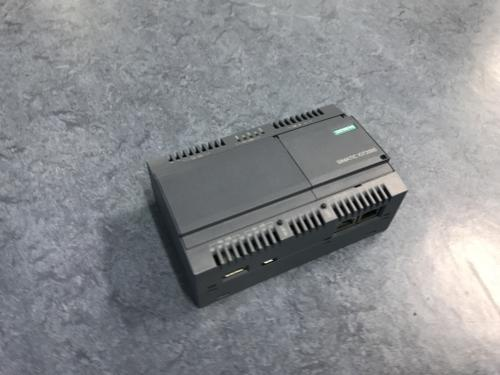device: (146, 105, 409, 309)
